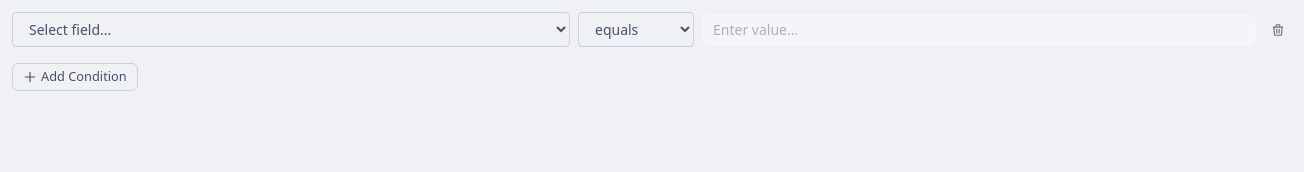
QueryBuilder › field selection › updates operator options when field type changes
This screenshot has width=1304, height=172.
# Select a number field (tss)
Select "Tss" in the 1st dropdown at (291, 30), box [12, 12, 570, 47]
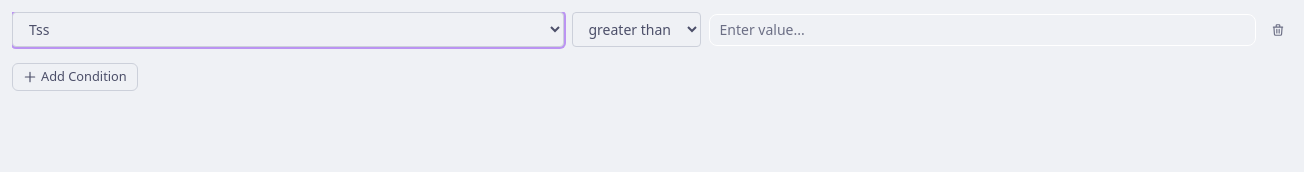
Result: the 2nd dropdown shows "greater than" at [572, 12, 700, 47]
